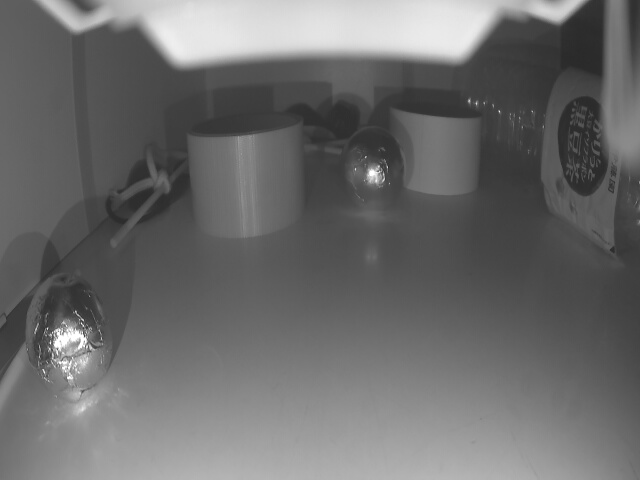Live: (24, 273, 111, 399), (342, 124, 403, 209)
